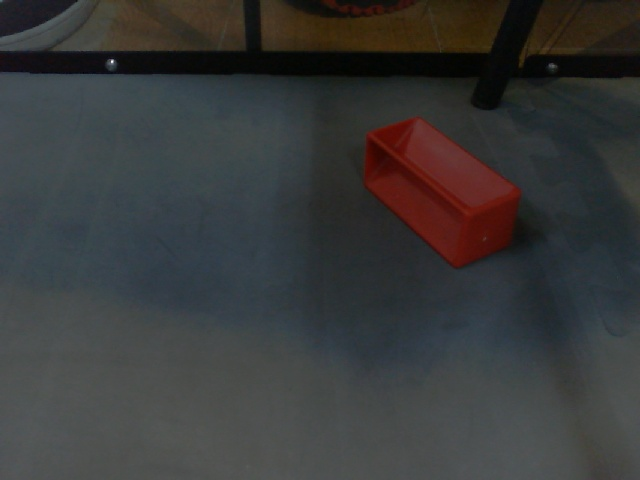RedSample: (360, 115, 523, 270)
